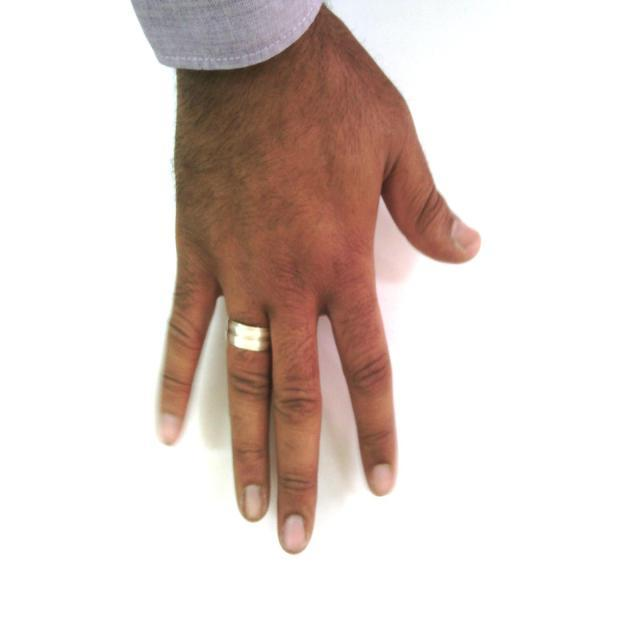Fingernail: (283, 515, 306, 553), (452, 220, 480, 251), (244, 485, 264, 520), (371, 464, 393, 495), (160, 414, 178, 445)
